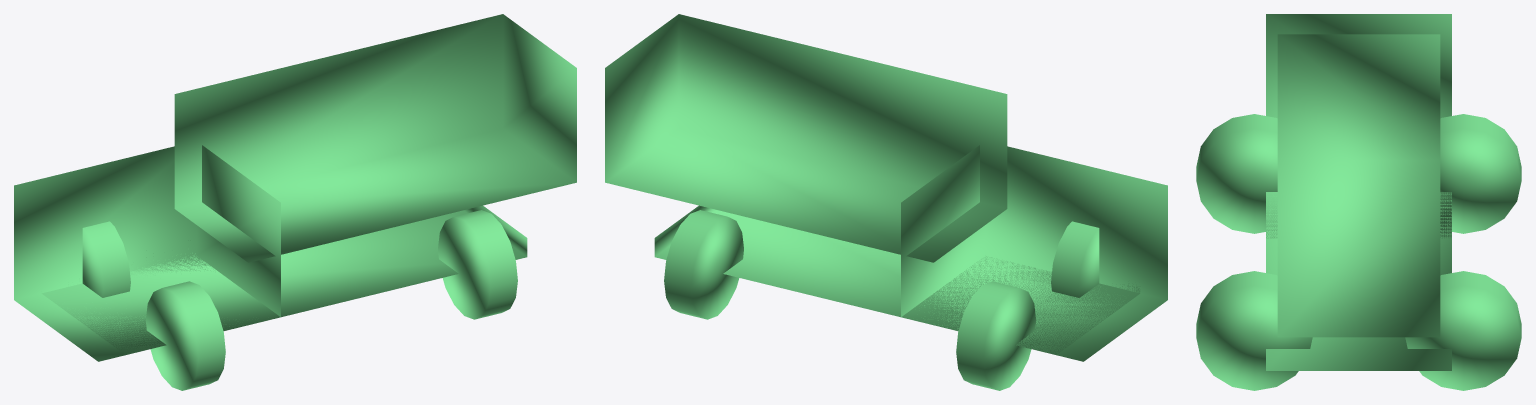
The model's file is tanque.glb.
The picture shows the model from 3 angles, left to right: view 1: azimuth 30°, elevation 25°; view 2: azimuth 150°, elevation 25°; view 3: azimuth 270°, elevation 25°; orthographic projection. The views are drawn at different scales.
Bounding box in the file's own units: 2.65 × 1.1 × 1.4.
